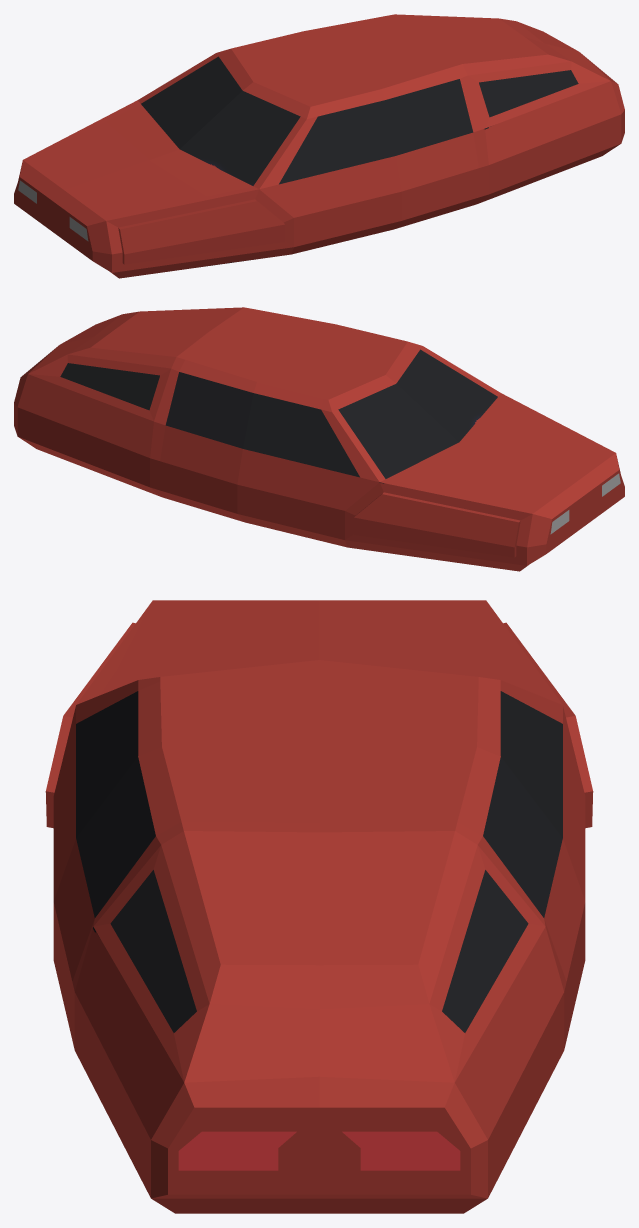
The model's file is Car-5.fbx.
3 views of the same model, one above another, from view 1: azimuth 30°, elevation 25°; view 2: azimuth 150°, elevation 25°; view 3: azimuth 270°, elevation 25° (orthographic). The views are drawn at different scales.
Parts seen in each view (by area): view 1: Car-5; view 2: Car-5; view 3: Car-5.
Part boxes in pixels (<box>): Car-5: <box>14,14,624,278</box>; Car-5: <box>14,307,624,571</box>; Car-5: <box>45,600,593,1213</box>.
Size of the model in its own units: 401 by 89.16 by 178.
